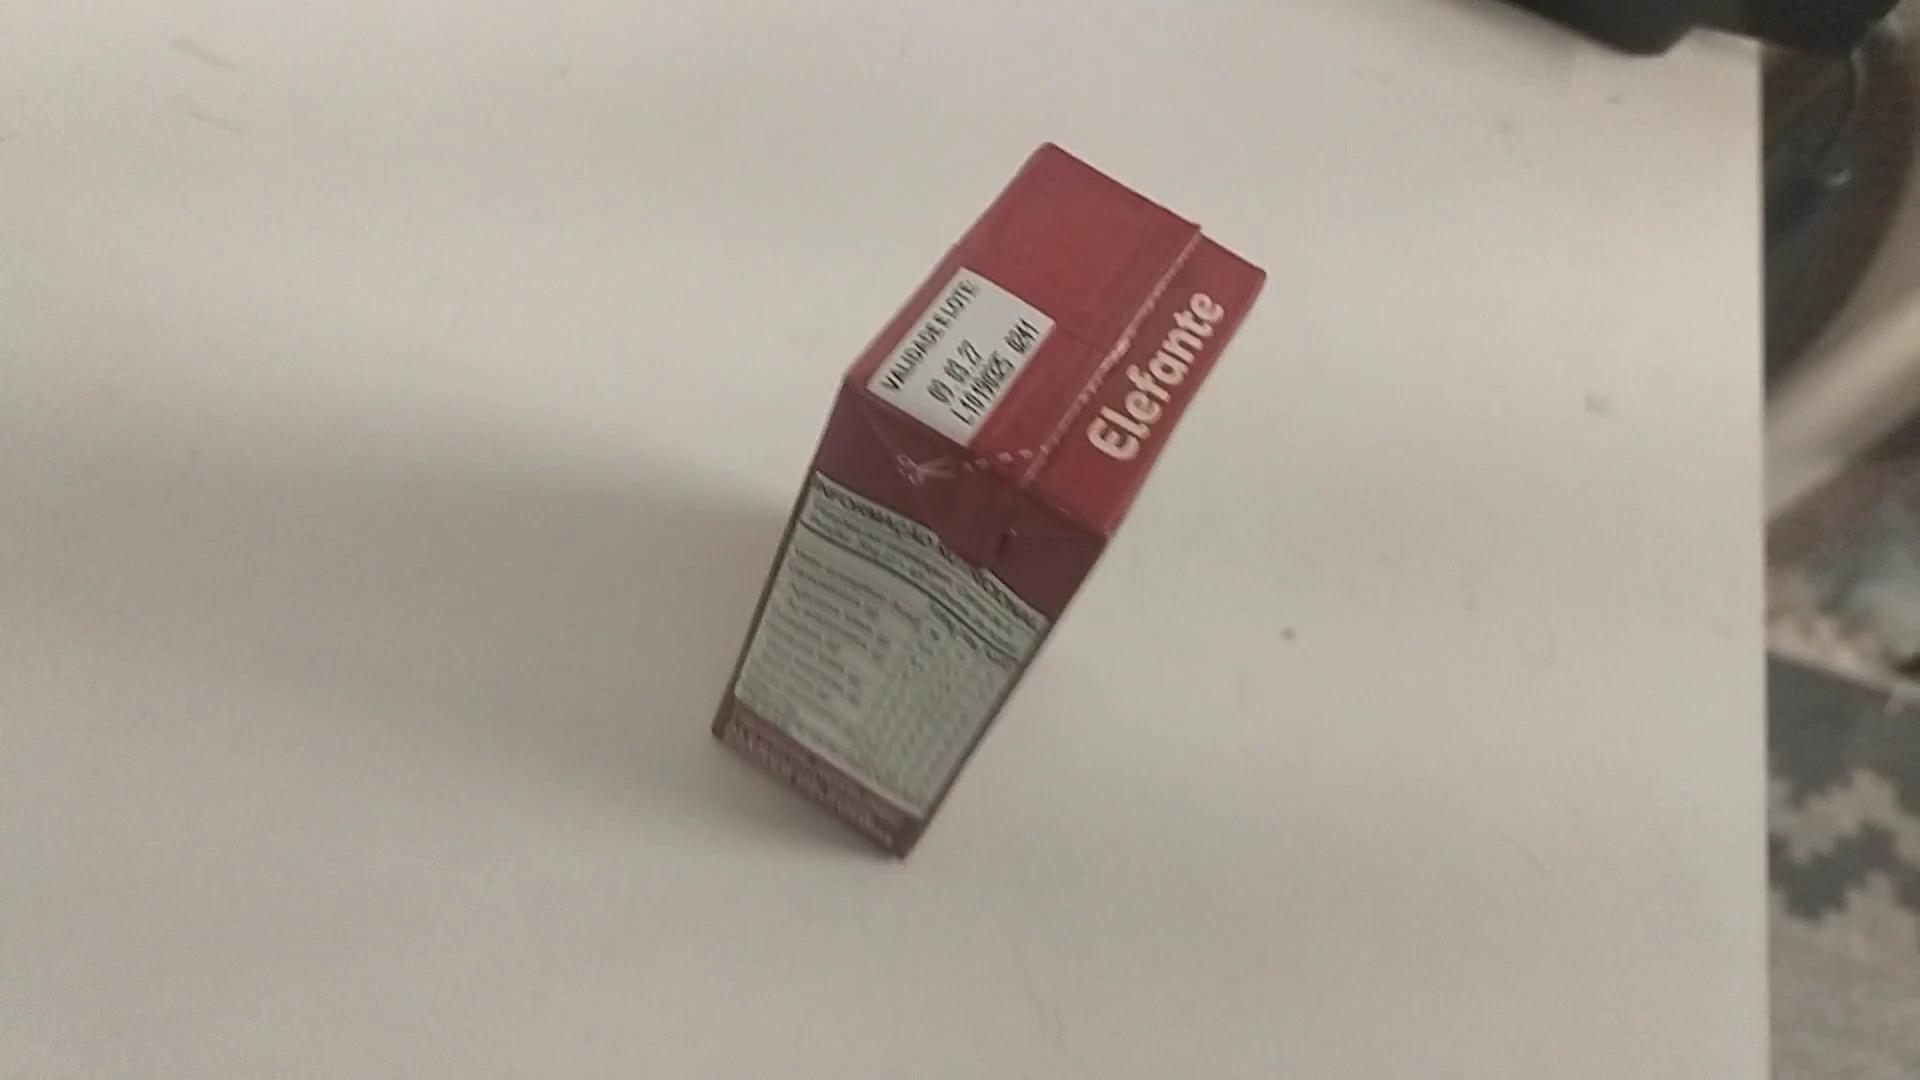tomate: (655, 80, 1381, 887)
